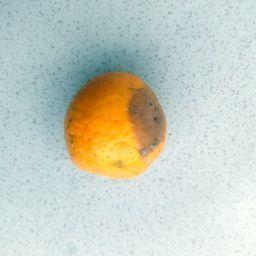Unripe: (63, 69, 166, 181)
